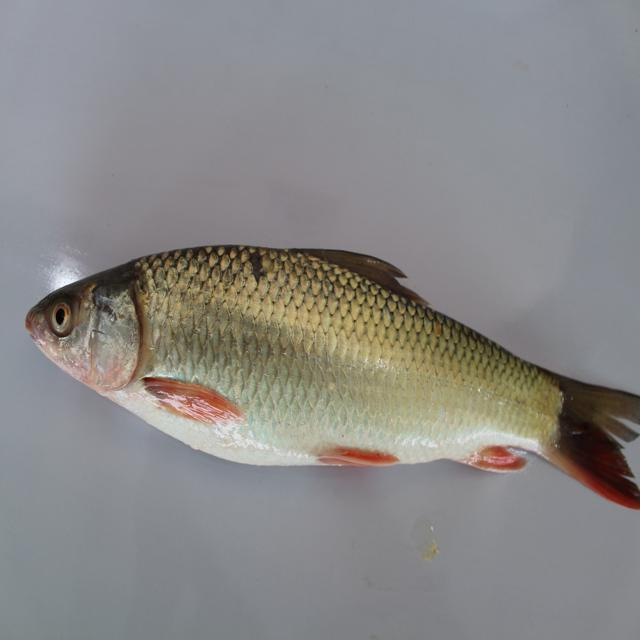Mori: (19, 217, 640, 529)
